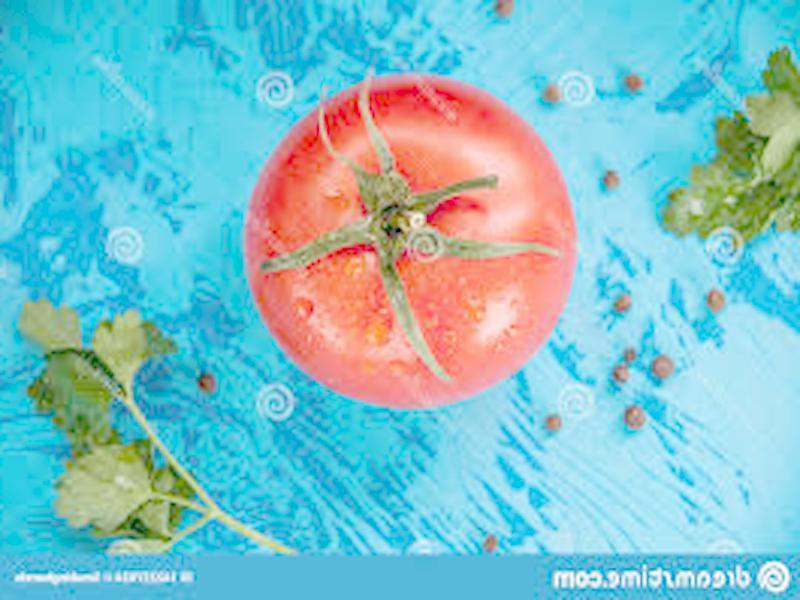Tomato: (244, 76, 576, 407)
